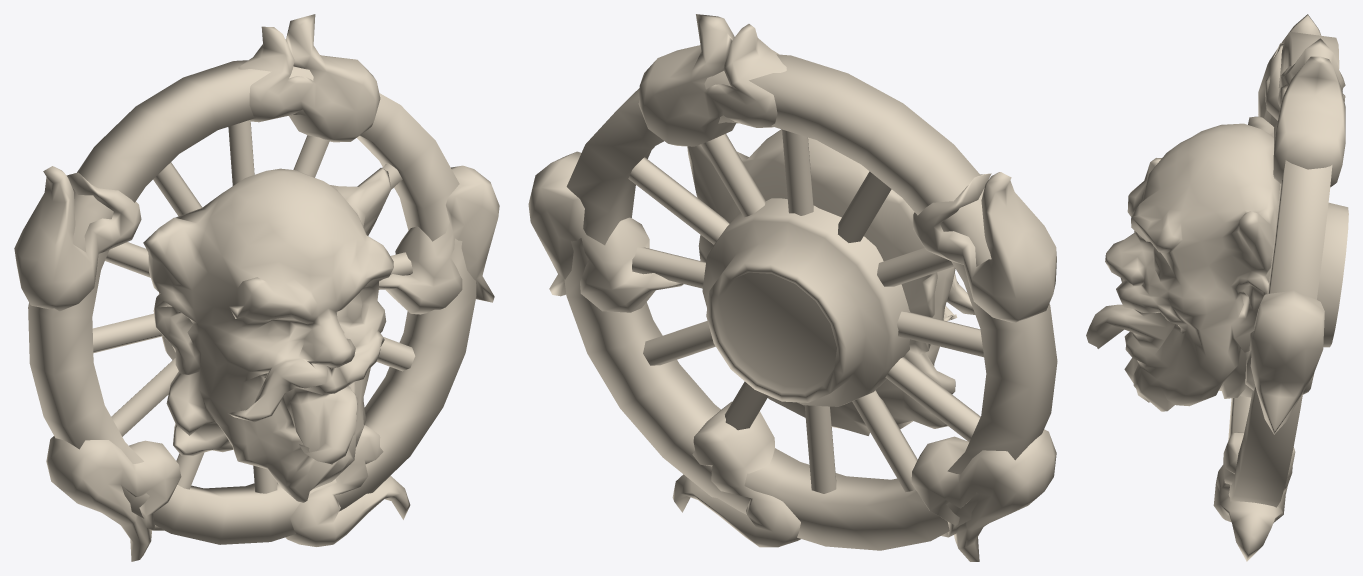
The model's file is body-condemnedsoul.glb.
The picture shows the model from 3 angles, left to right: view 1: azimuth 30°, elevation 25°; view 2: azimuth 150°, elevation 25°; view 3: azimuth 270°, elevation 25°; orthographic projection. The views are drawn at different scales.
Size of the model in its own units: 2.66 by 2.66 by 1.33.
